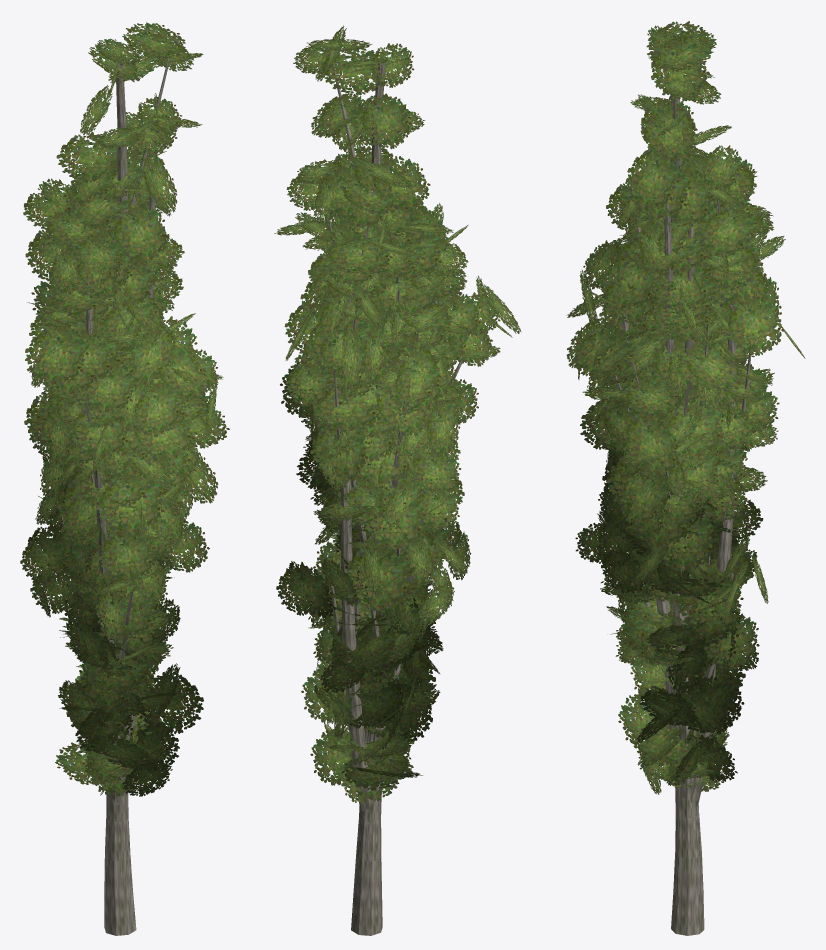
Rendered from Tree_Poplar_1.gltf.
3 views of the same model, side by side, from view 1: azimuth 30°, elevation 25°; view 2: azimuth 150°, elevation 25°; view 3: azimuth 270°, elevation 25° (orthographic).
Parts seen in each view (by area): view 1: Tree_Poplar_1; view 2: Tree_Poplar_1; view 3: Tree_Poplar_1.
Part boxes in pixels (left/top/right/bottom): Tree_Poplar_1: left=20, top=22, right=229, bottom=935; Tree_Poplar_1: left=274, top=25, right=521, bottom=935; Tree_Poplar_1: left=566, top=21, right=805, bottom=935.
Size of the model in its own units: 6.5 by 24.42 by 6.3.
Materials: 2 (2 with a texture image).
